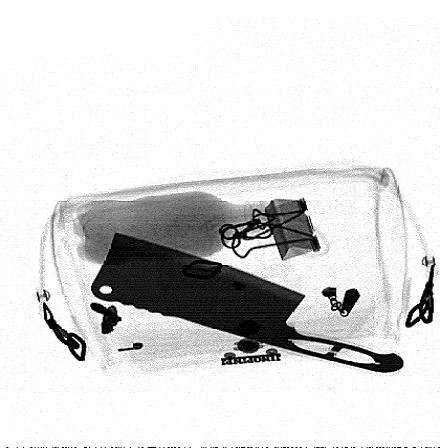Knife: (89, 231, 405, 374)
